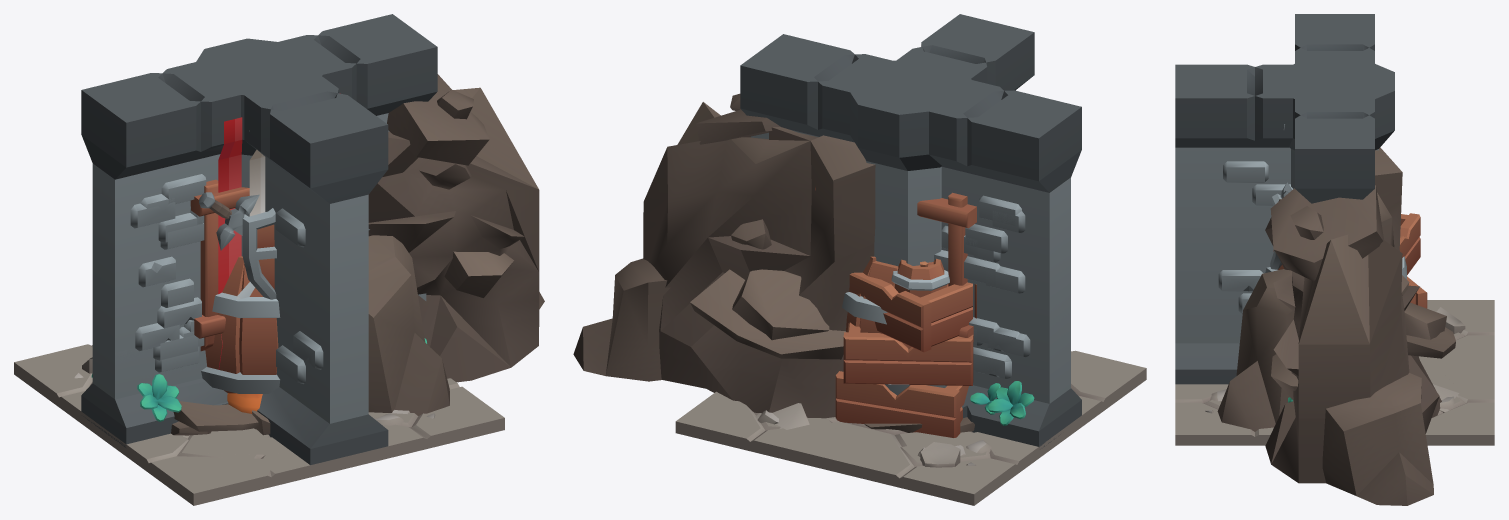
Rendered from dungeon.glb.
3 renders of one model, left to right at view 1: azimuth 30°, elevation 25°; view 2: azimuth 150°, elevation 25°; view 3: azimuth 270°, elevation 25°, orthographic. The views are drawn at different scales.
Visible parts, largest first — view 1: wall, rubble_half, wall_corner, floor_tile_large_rocks, wall_window_closed, wall_cracked, pillar_decorated, barrel_large, floor_tile_large, floor_dirt_large, floor_dirt_large_rocky, banner_red (+1 smaller); view 2: rubble_half, wall, wall_corner, crates_stacked, floor_tile_large_rocks, wall_cracked, floor_tile_large, pillar_decorated, pillar, wall_window_closed, barrel_large, floor_dirt_large_rocky (+1 smaller); view 3: rubble_half, wall_corner, wall, floor_tile_large_rocks, pillar_decorated, floor_dirt_large, pillar, crates_stacked, floor_dirt_large_rocky, floor_tile_large.
Boxes of the visible parts, x1=… form: wall: x1=81, y1=14, x2=437, y2=447; rubble_half: x1=368, y1=74, x2=544, y2=415; wall_corner: x1=85, y1=53, x2=388, y2=465; floor_tile_large_rocks: x1=14, y1=344, x2=504, y2=505; wall_window_closed: x1=115, y1=113, x2=426, y2=398; wall_cracked: x1=91, y1=113, x2=427, y2=421; pillar_decorated: x1=189, y1=41, x2=329, y2=299; barrel_large: x1=201, y1=256, x2=280, y2=393; floor_tile_large: x1=14, y1=362, x2=504, y2=505; floor_dirt_large: x1=193, y1=410, x2=504, y2=504; floor_dirt_large_rocky: x1=74, y1=357, x2=503, y2=505; banner_red: x1=218, y1=93, x2=340, y2=369; rubble_half: x1=573, y1=93, x2=875, y2=418; wall: x1=740, y1=34, x2=1081, y2=449; wall_corner: x1=881, y1=14, x2=1076, y2=420; crates_stacked: x1=835, y1=258, x2=976, y2=437; floor_tile_large_rocks: x1=676, y1=350, x2=1145, y2=505; wall_cracked: x1=754, y1=130, x2=1070, y2=425; floor_tile_large: x1=675, y1=368, x2=1146, y2=505; pillar_decorated: x1=858, y1=59, x2=965, y2=266; pillar: x1=844, y1=59, x2=974, y2=262; wall_window_closed: x1=751, y1=132, x2=1025, y2=379; barrel_large: x1=842, y1=256, x2=948, y2=395; floor_dirt_large_rocky: x1=755, y1=377, x2=1146, y2=467; rubble_half: x1=1217, y1=147, x2=1455, y2=505; wall_corner: x1=1175, y1=14, x2=1374, y2=384; wall: x1=1295, y1=14, x2=1374, y2=203; floor_tile_large_rocks: x1=1175, y1=300, x2=1494, y2=436; pillar_decorated: x1=1270, y1=56, x2=1394, y2=269; floor_dirt_large: x1=1175, y1=396, x2=1494, y2=445; pillar: x1=1275, y1=56, x2=1394, y2=146; crates_stacked: x1=1399, y1=213, x2=1427, y2=308; floor_dirt_large_rocky: x1=1175, y1=307, x2=1494, y2=445; floor_tile_large: x1=1208, y1=335, x2=1467, y2=436.
Bounding box in the file's own units: 6 × 4.38 × 4.
1 material, 1 textured.
